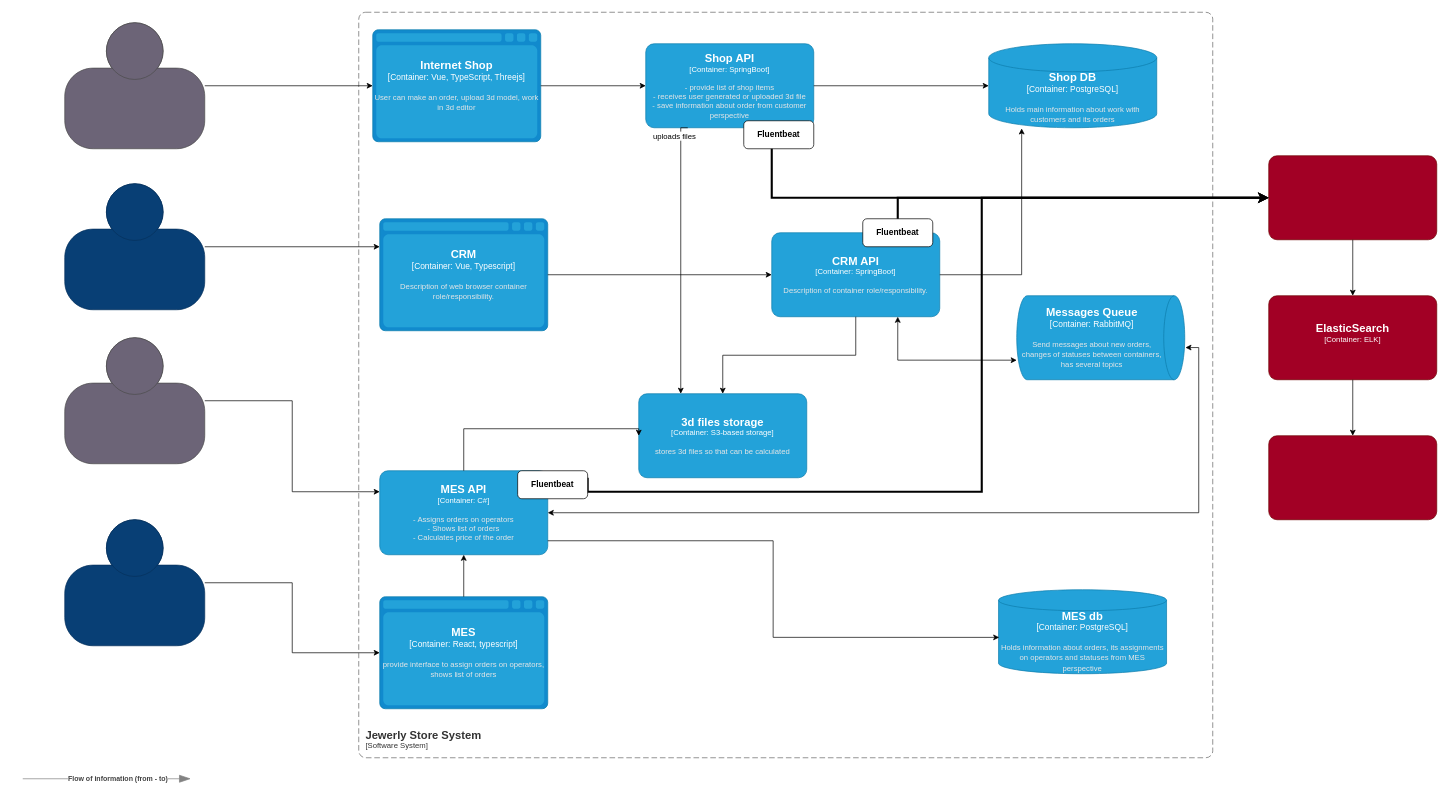
This 1449x802 diagram has some shape labels left out. Each missing label, with the centre of its shape:
"API user [Person] Description of external person." belongs at (x=134, y=400).
"Customer [Person] Description of external person." belongs at (x=134, y=85).
"Kibana [Container: ELK]" belongs at (x=1352, y=477).
"Logstash [Container: ELK]" belongs at (x=1352, y=197).
"Operator [Person] Takes order in work, manufactures jewerly" belongs at (x=134, y=582).
"Seller [Person] Operates with order, confirms manufacturing for the user" belongs at (x=134, y=246).
